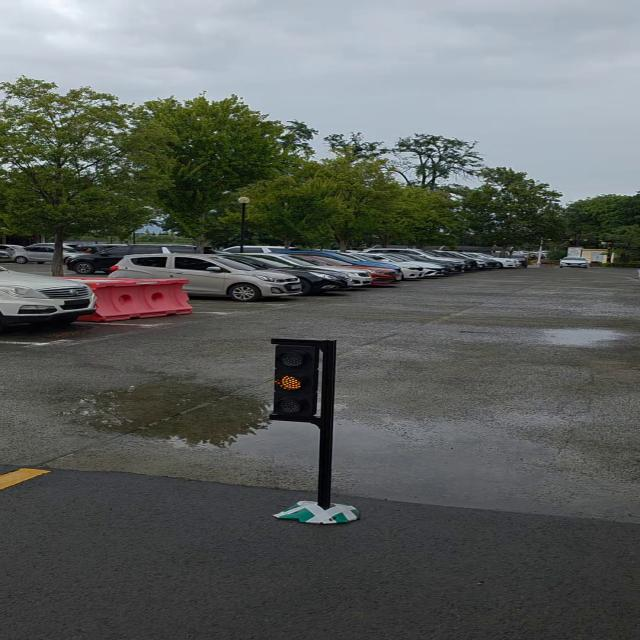yellow: (271, 345, 322, 417)
